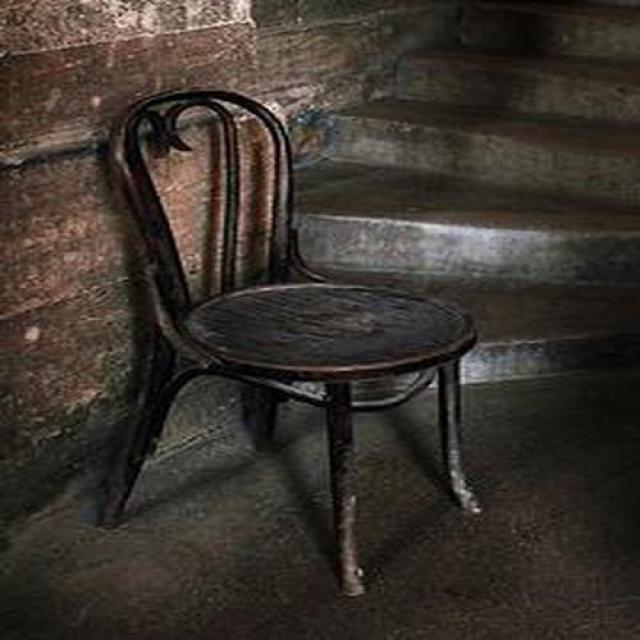chair: (105, 91, 481, 600)
